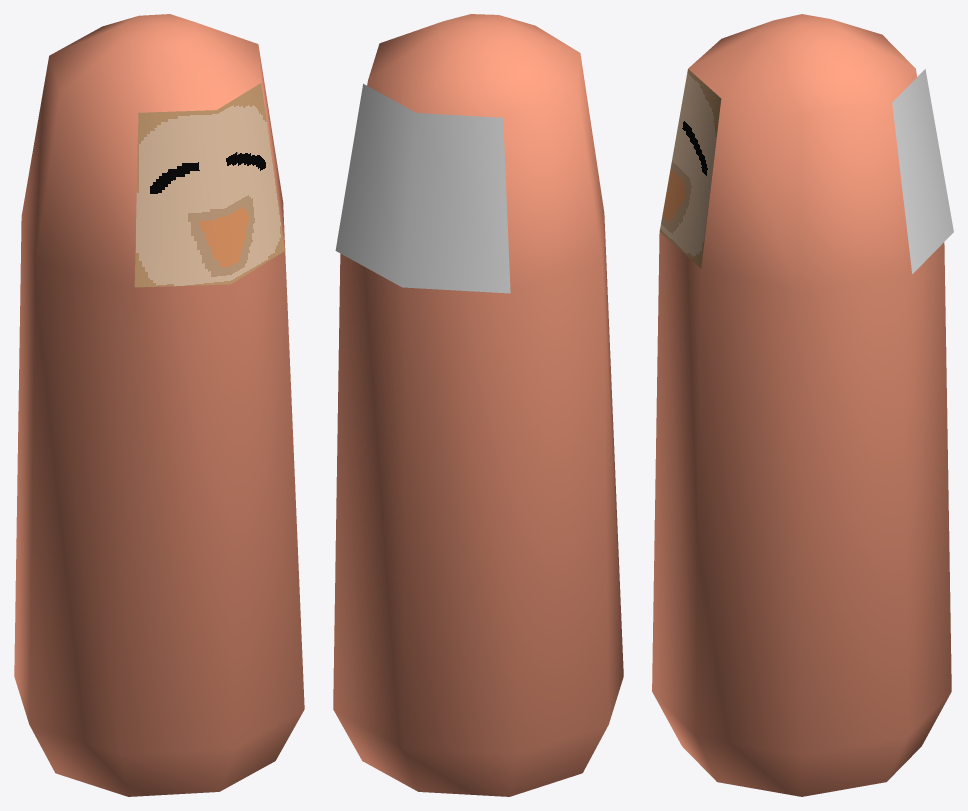
File: OTA_N_03.glb
3 renders of one model, left to right at view 1: azimuth 30°, elevation 25°; view 2: azimuth 150°, elevation 25°; view 3: azimuth 270°, elevation 25°, orthographic.
Visible parts, largest first — view 1: FRAME_ROOT; view 2: FRAME_ROOT; view 3: FRAME_ROOT.
Part boxes in pixels (x1,y1,x2,y2): FRAME_ROOT: (14,14,304,796); FRAME_ROOT: (333,14,623,796); FRAME_ROOT: (652,14,953,796).
Size of the model in its own units: 1.28 by 3.4 by 1.29.
Materials: 3 (3 with a texture image).
